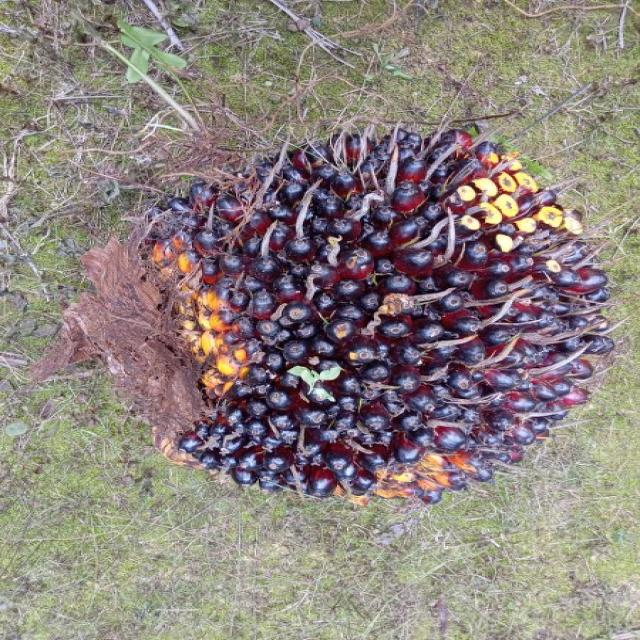fraksi 00: (93, 117, 623, 512)
